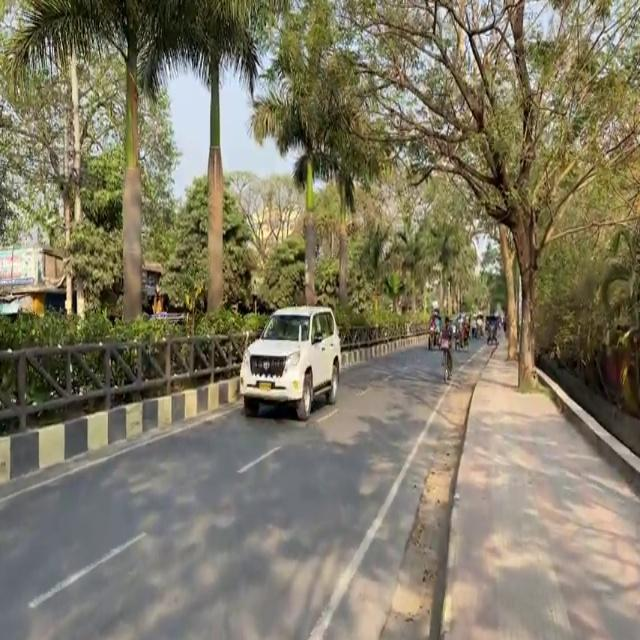Bench: (238, 303, 342, 420)
Construction-barrier: (0, 370, 243, 503), (533, 356, 639, 639), (533, 360, 639, 499)
Fallen-tree: (427, 323, 441, 350)
Light-pole: (205, 53, 225, 315)
Pothole: (435, 324, 639, 639)
